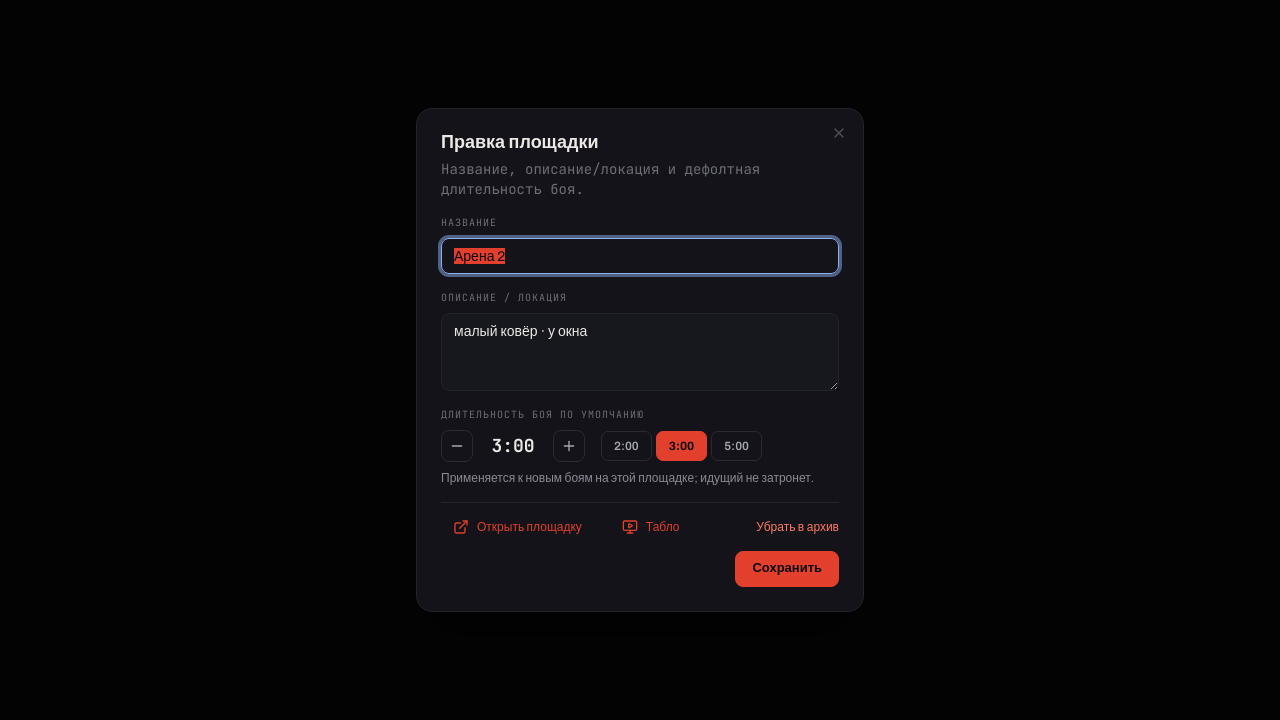
Test: EditArenaDialog › shows an inline error for an empty name and does not submit
Clear the field labelled "Название": (640, 256) [441,238,839,274]
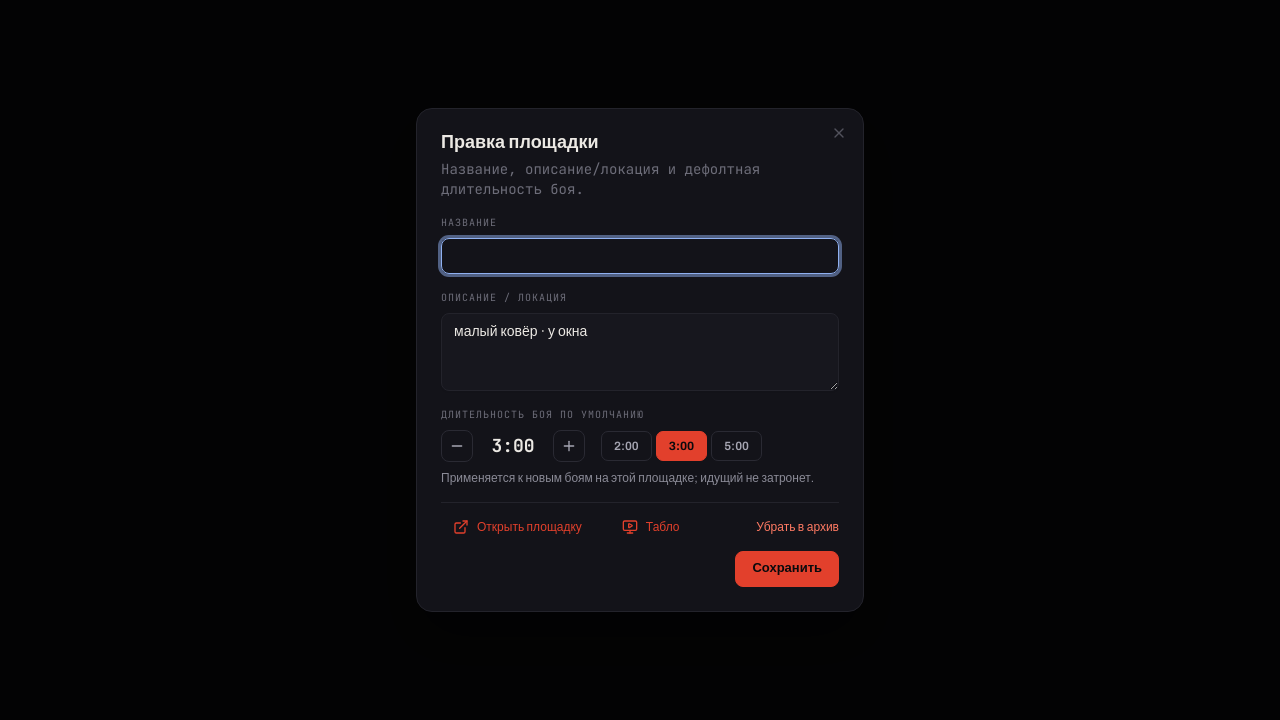
Click the button "Сохранить": (787, 569) [735,551,839,587]
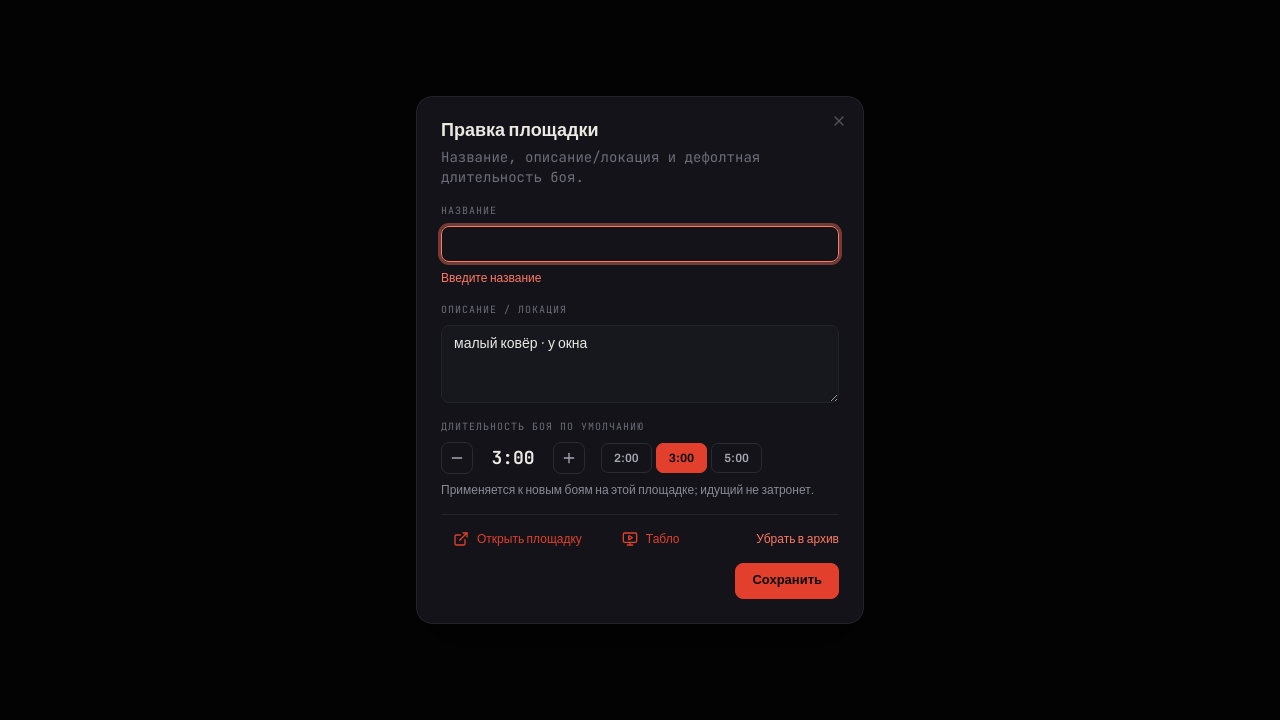
Expected: the text "Введите название" is shown, [441,271,542,285]
